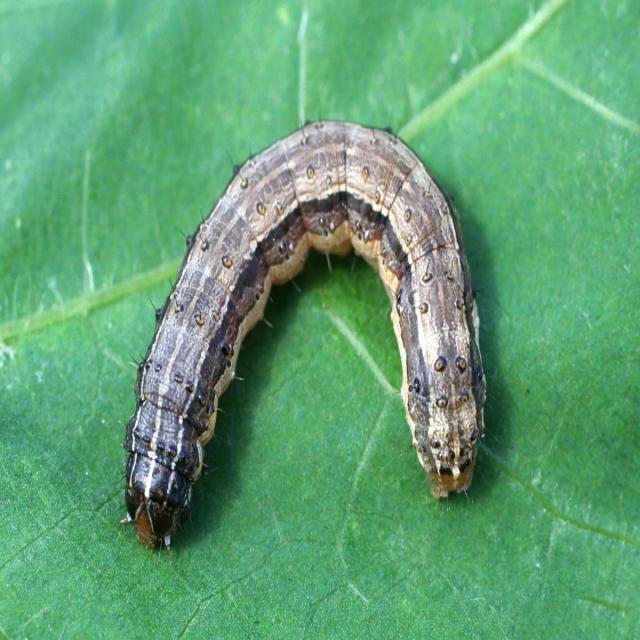armyworm: (119, 110, 485, 580)
